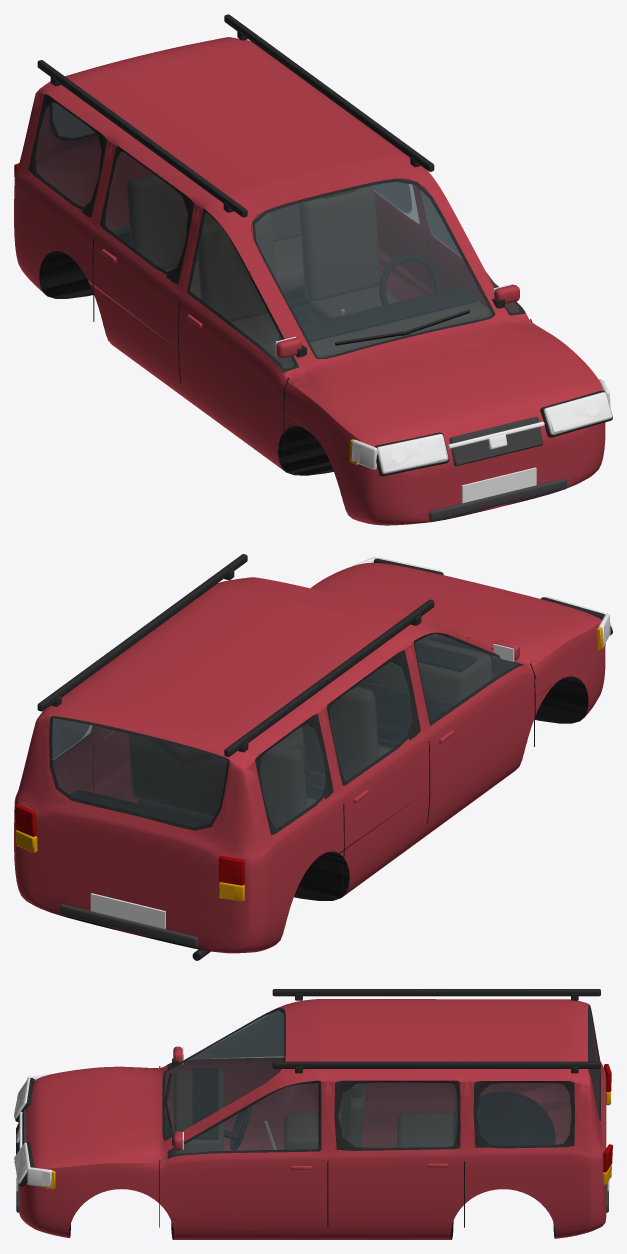
Rendered from largus.glb.
The picture shows the model from 3 angles, top to bottom: view 1: azimuth 30°, elevation 25°; view 2: azimuth 150°, elevation 25°; view 3: azimuth 270°, elevation 25°; orthographic projection. The views are drawn at different scales.
Visible parts, largest first — view 1: LOD_hi, LOD0; view 2: LOD_hi, LOD0; view 3: LOD_hi, LOD0.
Part boxes in pixels (x1,y1,x2,y2): LOD_hi: [14, 14, 612, 525]; LOD0: [14, 31, 607, 518]; LOD_hi: [14, 554, 612, 960]; LOD0: [16, 557, 612, 960]; LOD_hi: [14, 989, 612, 1239]; LOD0: [14, 992, 612, 1239].
Size of what is drawn, in the model's own units: 1.79 by 1.49 by 4.56.
